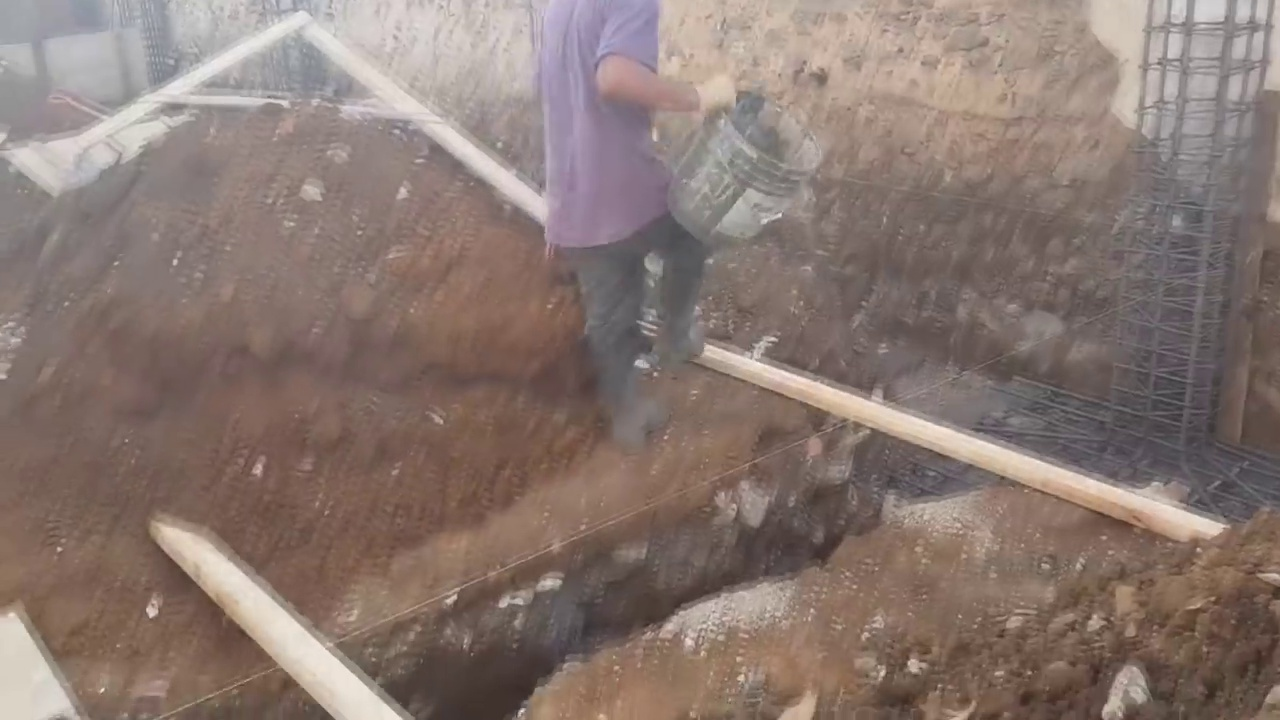helmet: (1124, 664, 1159, 702)
person: (512, 0, 747, 458)
